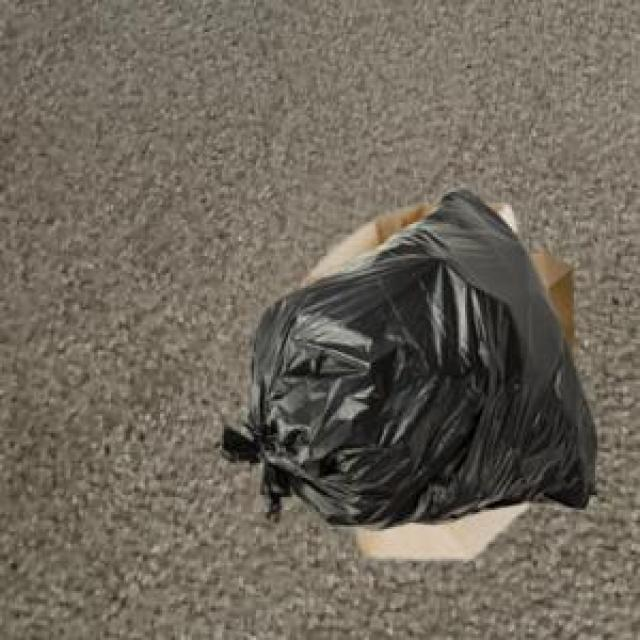miscellaneous trash: (211, 186, 593, 525)
paper: (299, 201, 527, 555), (525, 248, 570, 356)
